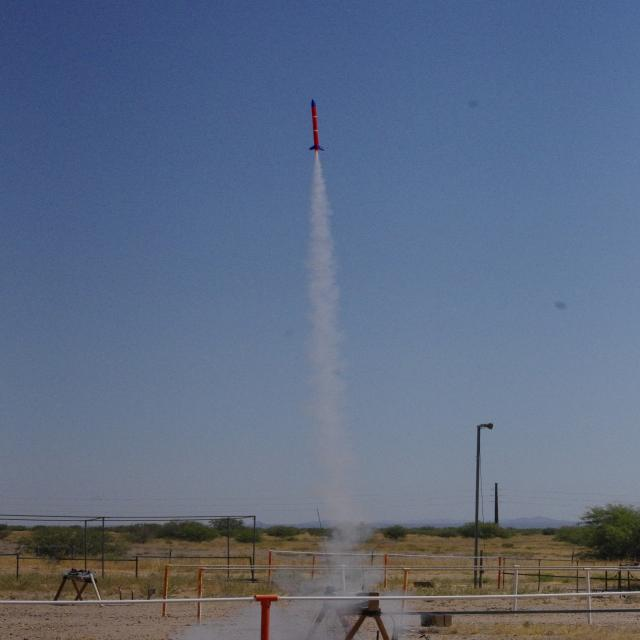Rocket: (309, 98, 324, 152)
